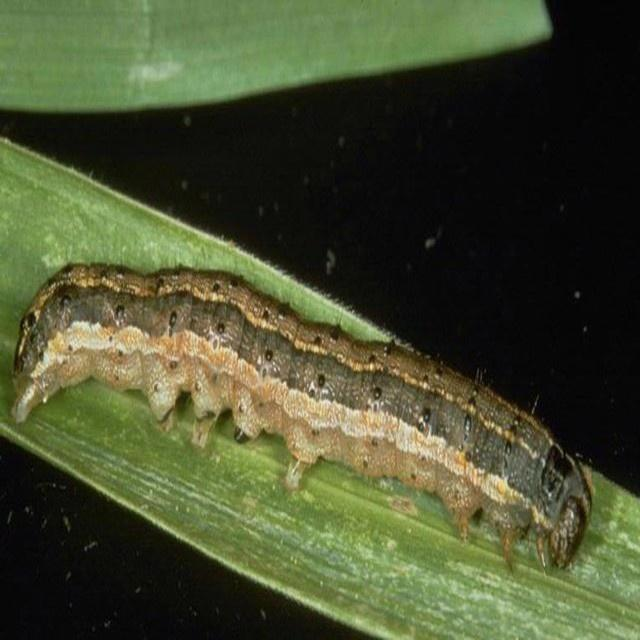yellow-stem-borer-larva: (21, 222, 608, 607)
